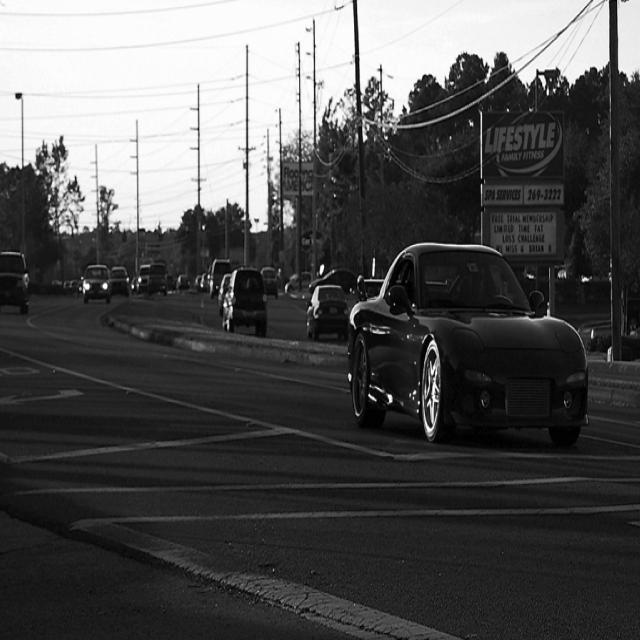car: (349, 237, 584, 436), (224, 270, 264, 330), (84, 265, 109, 299)
